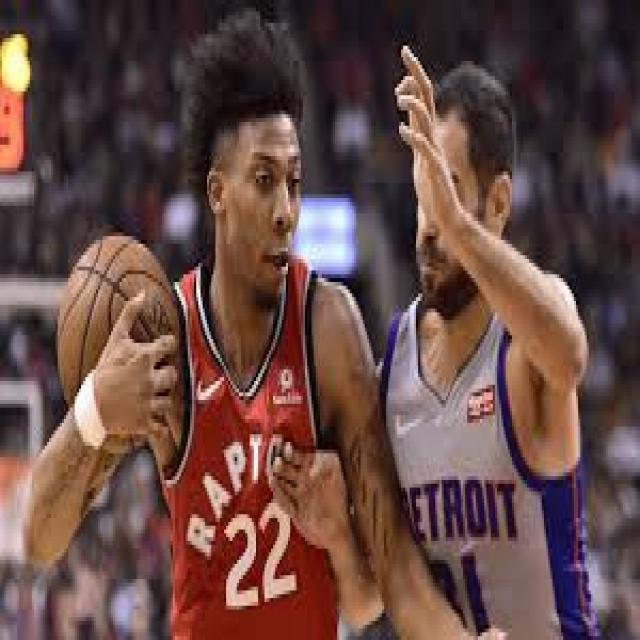rim: (56, 240, 178, 453)
